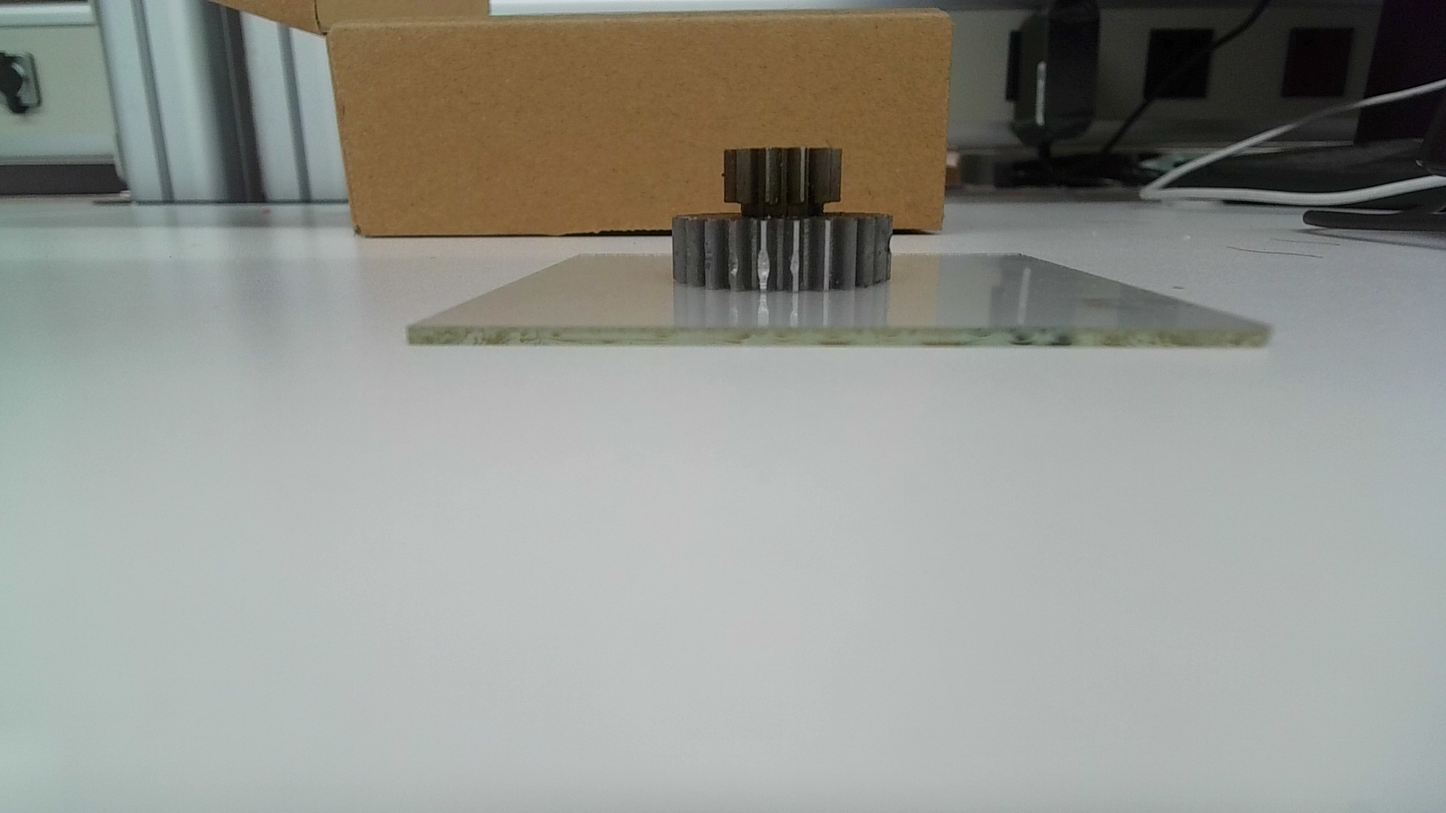gear: (668, 143, 896, 298)
